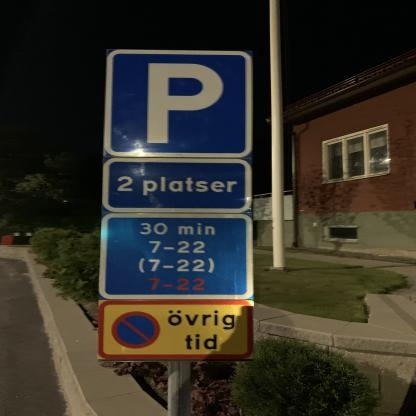P-skylt: (102, 47, 254, 158)
